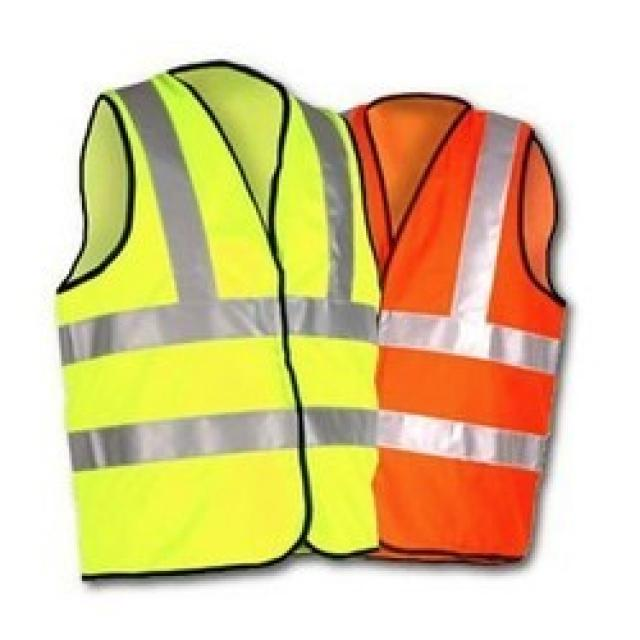Reflective-Jacket: (21, 54, 592, 594)
